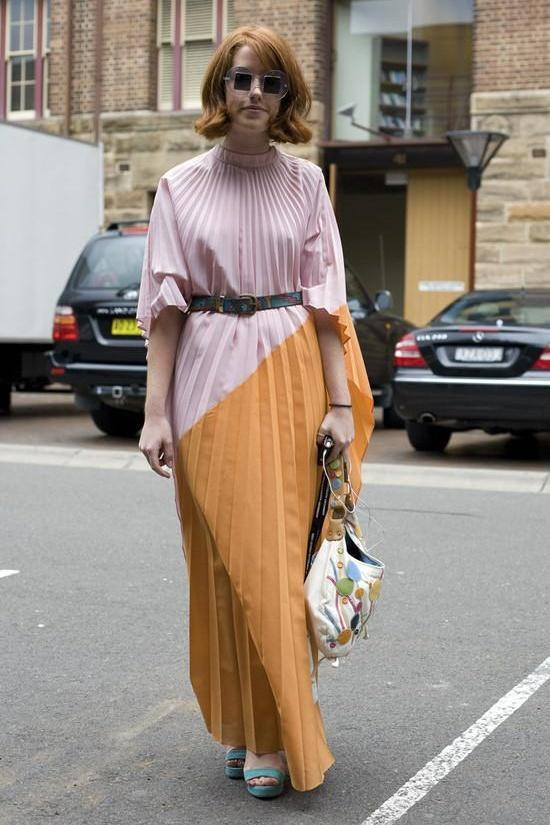dress: (136, 143, 374, 794)
